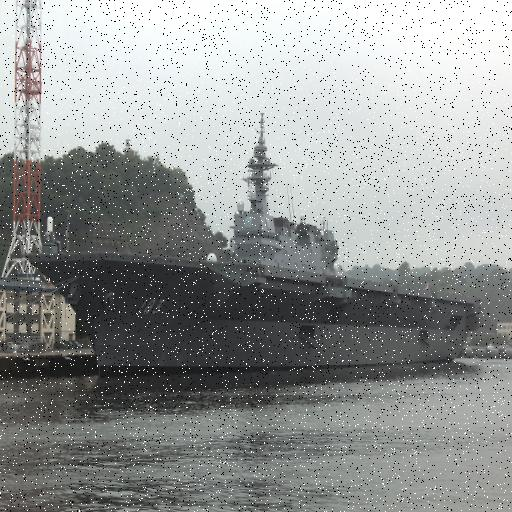Portanaves: (22, 105, 488, 383)
